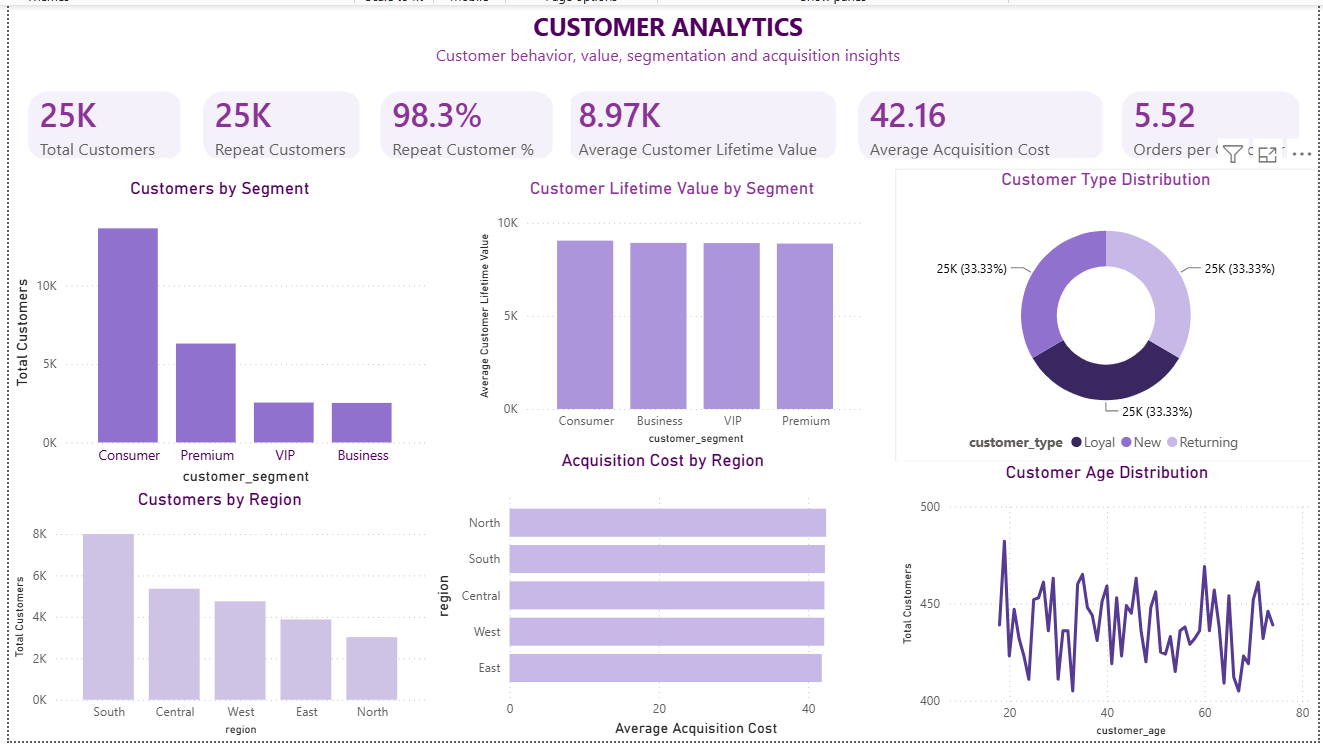

What the dashboard file says about the page in this screenshot:
{"tool":"powerbi","page":{"name":"Customer Analytics","canvas":[1280,720],"ordinal":2},"visuals":[{"type":"textbox","box":[10,0,1270,66.2],"z":0},{"type":"cardVisual","fields":{"Data":["_Measure.Total Customers"]},"box":[0,66.2,186.2,102.5],"z":1000},{"type":"cardVisual","fields":{"Data":["_Measure.Repeat Customers"]},"box":[171.2,66.2,190,102.5],"z":2000},{"type":"cardVisual","fields":{"Data":["_Measure.Average Acquisition Cost"]},"box":[812.5,66.2,276.2,102.5],"z":3000},{"type":"cardVisual","fields":{"Data":["_Measure.Average Customer Lifetime Value"]},"box":[527.5,66.2,300,102.5],"z":4000},{"type":"cardVisual","fields":{"Data":["_Measure.Repeat Customer %"]},"box":[345,66.2,205,102.5],"z":5000},{"type":"cardVisual","fields":{"Data":["_Measure.Orders per Customer"]},"box":[1070,66.2,210,102.5],"z":6000},{"type":"clusteredColumnChart","title":"Customers by Segment","fields":{"Category":["customer_master.customer_segment"],"Y":["_Measure.Total Customers"]},"box":[0,168.8,412.5,305],"z":7000},{"type":"clusteredColumnChart","title":"Customer Lifetime Value by Segment","fields":{"Category":["customer_master.customer_segment"],"Y":["_Measure.Average Customer Lifetime Value"]},"box":[455,168.8,387.5,266.2],"z":8000},{"type":"clusteredBarChart","title":"Acquisition Cost by Region","fields":{"Category":["customer_master.region"],"Y":["_Measure.Average Acquisition Cost"]},"box":[412.5,435,455,285],"z":9000},{"type":"donutChart","title":"Customer Type Distribution","fields":{"Category":["ecommerce_sales_customer_analytics_150k.customer_type"],"Y":["_Measure.Total Customers"]},"box":[867.5,160,412.5,286.2],"z":10000},{"type":"clusteredColumnChart","title":"Customers by Region","fields":{"Category":["customer_master.region"],"Y":["_Measure.Total Customers"]},"box":[0,473.8,412.5,246.2],"z":11000},{"type":"lineChart","title":"Customer Age Distribution","fields":{"Category":["customer_master.customer_age"],"Y":["_Measure.Total Customers"]},"box":[868,446,412,274],"z":12000}]}

Visuals, with their boxes on the page's 1280x720 design canvas (x1, y1, x2, y2). These are canvas units, not pixel positions in the 1323x746 screenshot, which may show the page scaled, cropped or inside an application window:
textbox: <region>10, 0, 1280, 66</region>
cardVisual - _Measure.Total Customers: <region>0, 66, 186, 169</region>
cardVisual - _Measure.Repeat Customers: <region>171, 66, 361, 169</region>
cardVisual - _Measure.Average Acquisition Cost: <region>812, 66, 1089, 169</region>
cardVisual - _Measure.Average Customer Lifetime Value: <region>528, 66, 828, 169</region>
cardVisual - _Measure.Repeat Customer %: <region>345, 66, 550, 169</region>
cardVisual - _Measure.Orders per Customer: <region>1070, 66, 1280, 169</region>
"Customers by Segment" clusteredColumnChart: <region>0, 169, 412, 474</region>
"Customer Lifetime Value by Segment" clusteredColumnChart: <region>455, 169, 842, 435</region>
"Acquisition Cost by Region" clusteredBarChart: <region>412, 435, 868, 720</region>
"Customer Type Distribution" donutChart: <region>868, 160, 1280, 446</region>
"Customers by Region" clusteredColumnChart: <region>0, 474, 412, 720</region>
"Customer Age Distribution" lineChart: <region>868, 446, 1280, 720</region>
